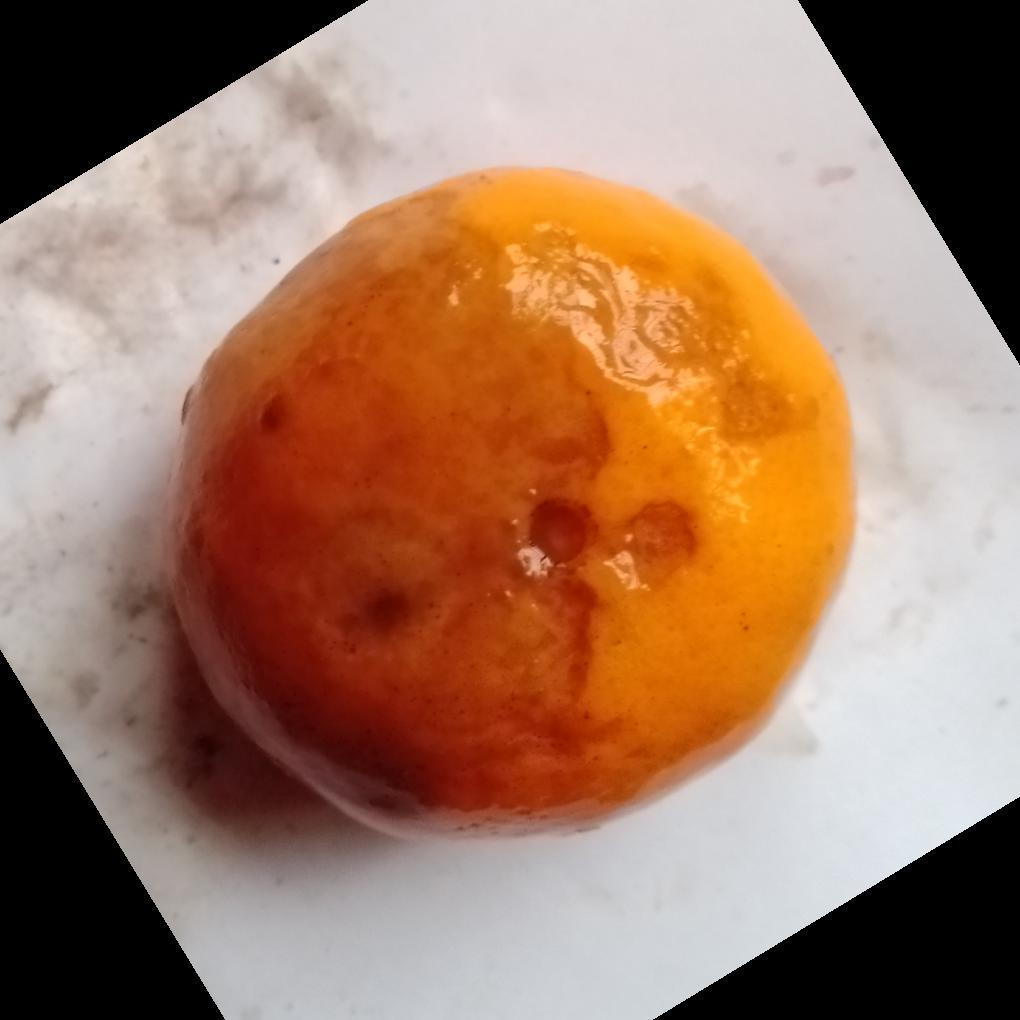FreshOrange: (164, 166, 859, 842)
